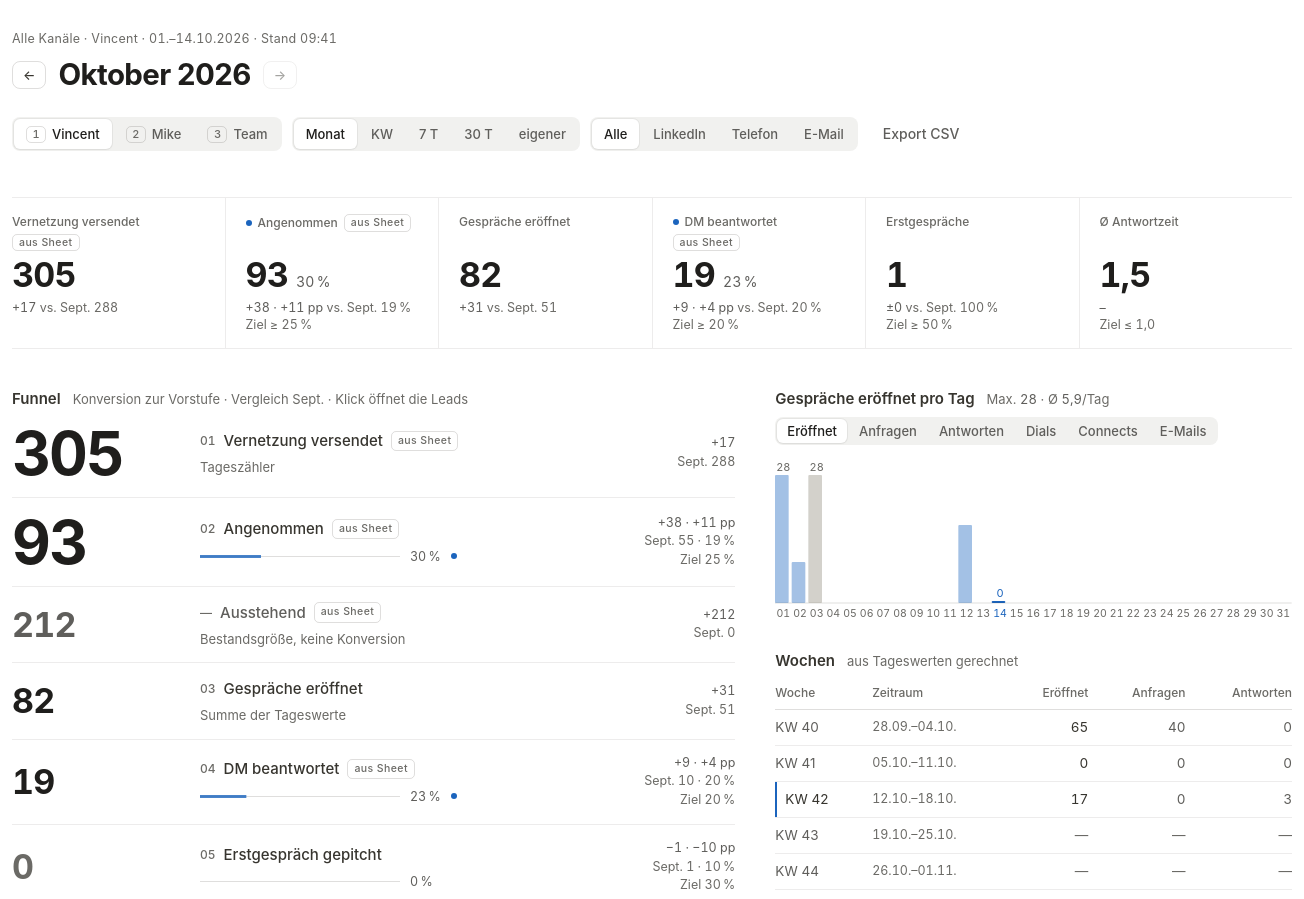
Test: KpisSeite › Tagesverlauf: Metrik-Segment schaltet Balken und Kopf um (Anfragen: Max. 40)
Expected: the list named "Kennzahlen LinkedIn" is shown, [12,198,1292,348]
Click the button "Anfragen".
click(888, 431)  # box [849,419,927,443]
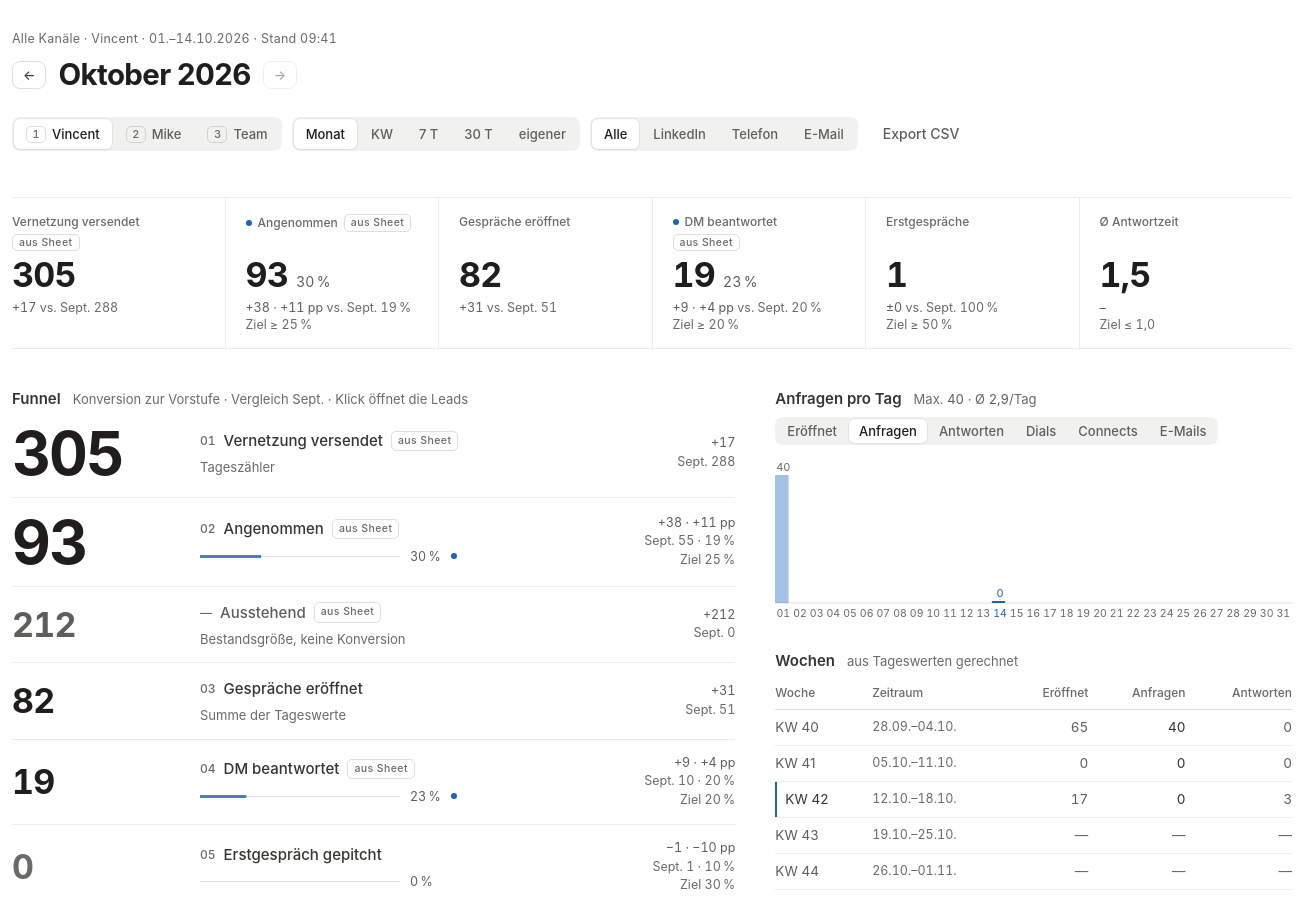
Expected: the heading "Anfragen pro Tag" is shown, [775,388,902,409]
Expected: the element named "Tagesverlauf" shows "Max. 40", [775,388,1292,619]
